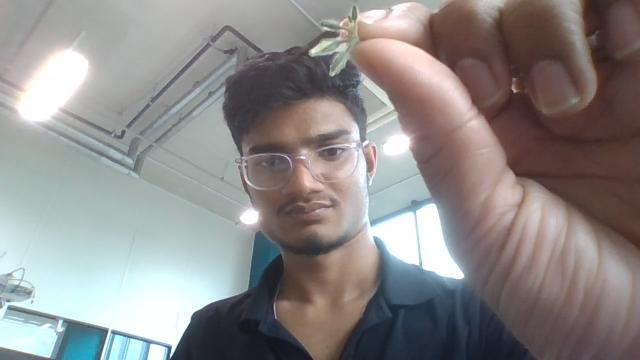Flower Bud: (330, 45, 355, 78), (308, 36, 345, 55), (319, 19, 344, 31), (348, 4, 359, 24)
